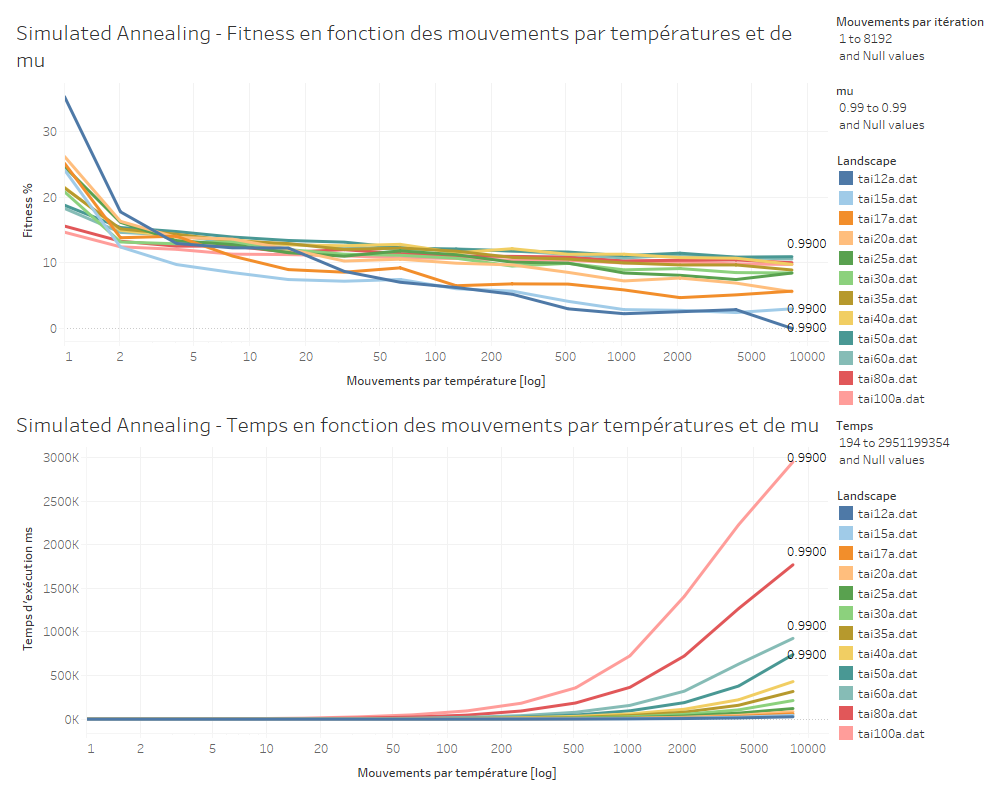

This screenshot's page, from the dashboard's own definition file:
{"tool":"tableau","page":{"name":"Simulated Annealing","canvas":[1000,800],"ordinal":2},"visuals":[{"type":"worksheet","title":"Simulated Annealing - Fitness","mark":"Line","rows":["Calculation_1762314897165549572"],"cols":["F7"],"box":[8,8,824,392]},{"type":"filter","title":"Simulated Annealing - Fitness","param":"[federated.11cgvjm1dvso7714uon5j07z6p7i].[none:F7:qk]","box":[832,8,160,69]},{"type":"filter","title":"Simulated Annealing - Fitness","param":"[federated.11cgvjm1dvso7714uon5j07z6p7i].[none:F5:qk]","box":[832,77,160,69]},{"type":"legend","title":"Simulated Annealing - Fitness","param":"[federated.11cgvjm1dvso7714uon5j07z6p7i].[none:F1:nk]","box":[832,146,160,86]},{"type":"filter","title":"Simulated Annealing - Temps","param":"[federated.11cgvjm1dvso7714uon5j07z6p7i].[none:F11:qk]","box":[832,232,160,69]},{"type":"legend","title":"Simulated Annealing - Temps","param":"[federated.11cgvjm1dvso7714uon5j07z6p7i].[none:F1:nk]","box":[832,301,160,86]},{"type":"worksheet","title":"Simulated Annealing - Temps","mark":"Line","rows":["Calculation_1762314897165619205"],"cols":["F7"],"box":[8,400,824,392]}]}

Visuals, with their boxes in screenshot pixels (x1, y1, x2, y2), scaled from the page's 1000x800 canvas onto the 1000x800 screenshot:
"Simulated Annealing - Fitness" worksheet (Line marks): (left=8, top=8, right=832, bottom=400)
"Simulated Annealing - Fitness" filter: (left=832, top=8, right=992, bottom=77)
"Simulated Annealing - Fitness" filter: (left=832, top=77, right=992, bottom=146)
"Simulated Annealing - Fitness" legend: (left=832, top=146, right=992, bottom=232)
"Simulated Annealing - Temps" filter: (left=832, top=232, right=992, bottom=301)
"Simulated Annealing - Temps" legend: (left=832, top=301, right=992, bottom=387)
"Simulated Annealing - Temps" worksheet (Line marks): (left=8, top=400, right=832, bottom=792)
